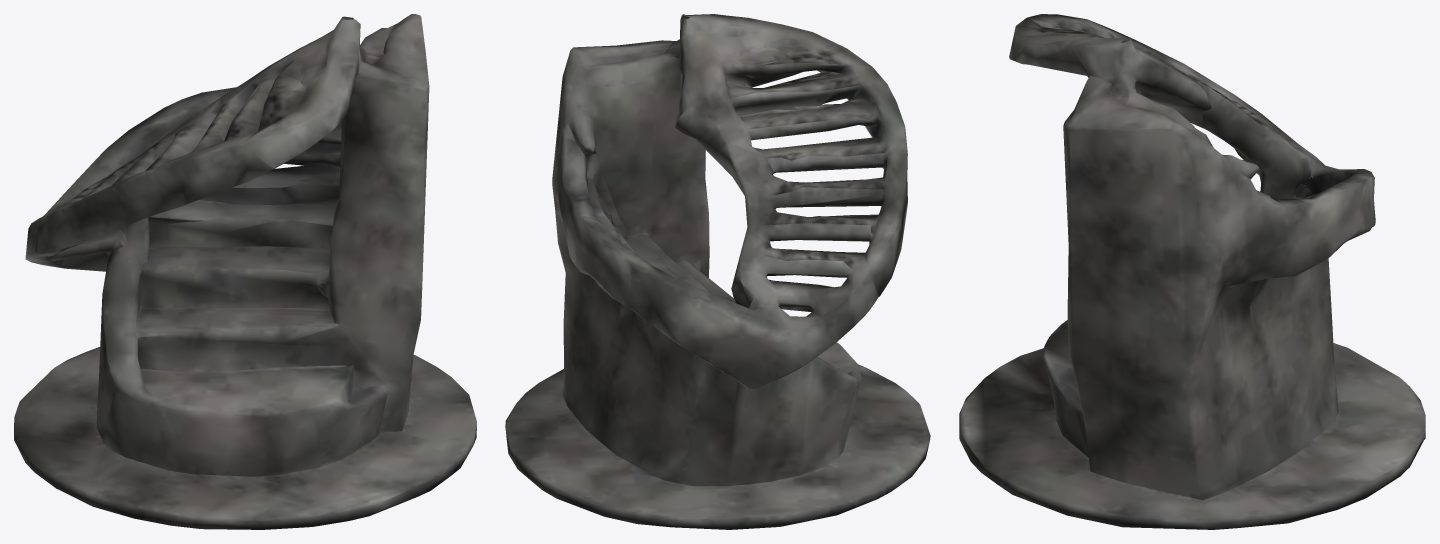
The model's file is chipped-granite-spiral-staircase-v001.glb.
3 renders of one model, left to right at view 1: azimuth 30°, elevation 25°; view 2: azimuth 150°, elevation 25°; view 3: azimuth 270°, elevation 25°, orthographic. The views are drawn at different scales.
Visible parts, largest first — view 1: chipped-granite-spiral-staircase; view 2: chipped-granite-spiral-staircase; view 3: chipped-granite-spiral-staircase.
Boxes of the visible parts, x1,y1,x2,y2 form: chipped-granite-spiral-staircase: [14, 14, 476, 529]; chipped-granite-spiral-staircase: [505, 14, 930, 529]; chipped-granite-spiral-staircase: [959, 14, 1425, 529].
Size of the model in its own units: 3.06 by 3.09 by 3.05.
Materials: 1 (1 with a texture image).
